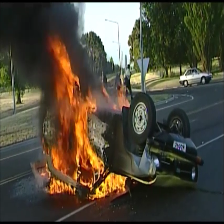fire_h: (49, 34, 109, 190), (88, 172, 128, 199), (101, 79, 130, 112)
fire_l: (48, 178, 75, 194), (41, 163, 50, 180), (42, 139, 49, 155)
